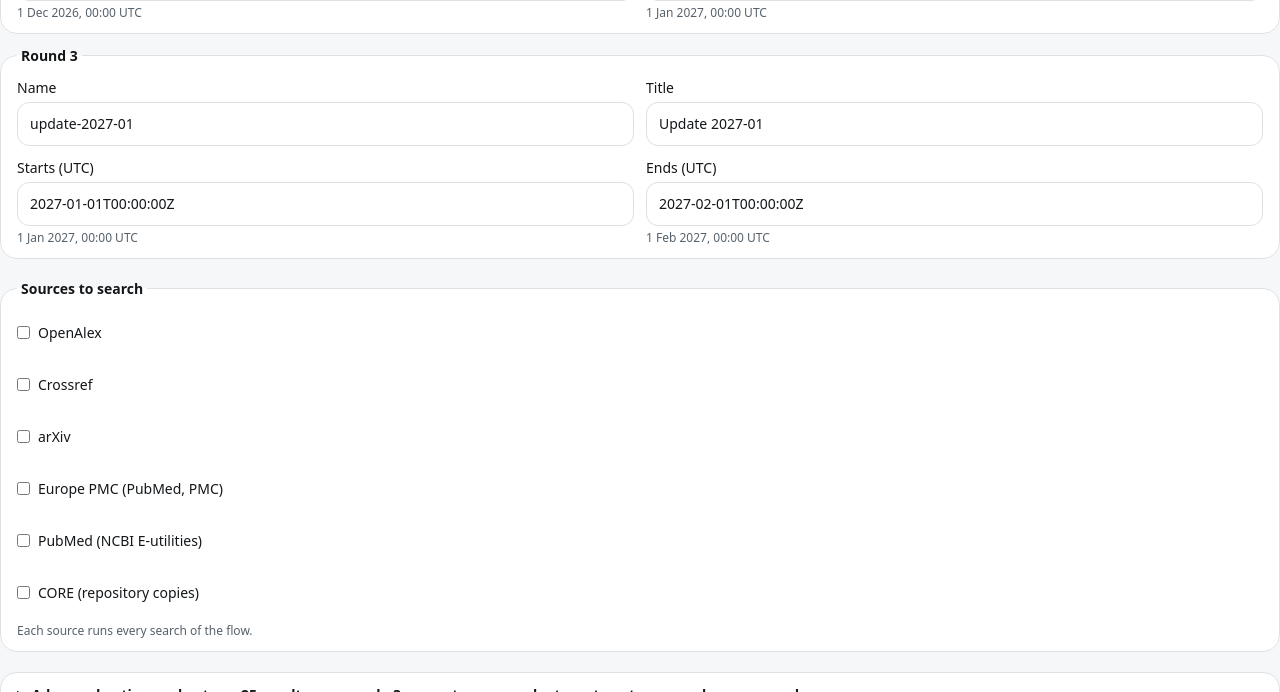
Test: New series › if the searches cannot be read, it says why and keeps saving disabled
This screenshot has width=1280, height=692.
(page scrolled)
Step 1. Click the checkbox labelled "OpenAlex" → click(24, 332), box [17,326,30,339]
(page scrolled)
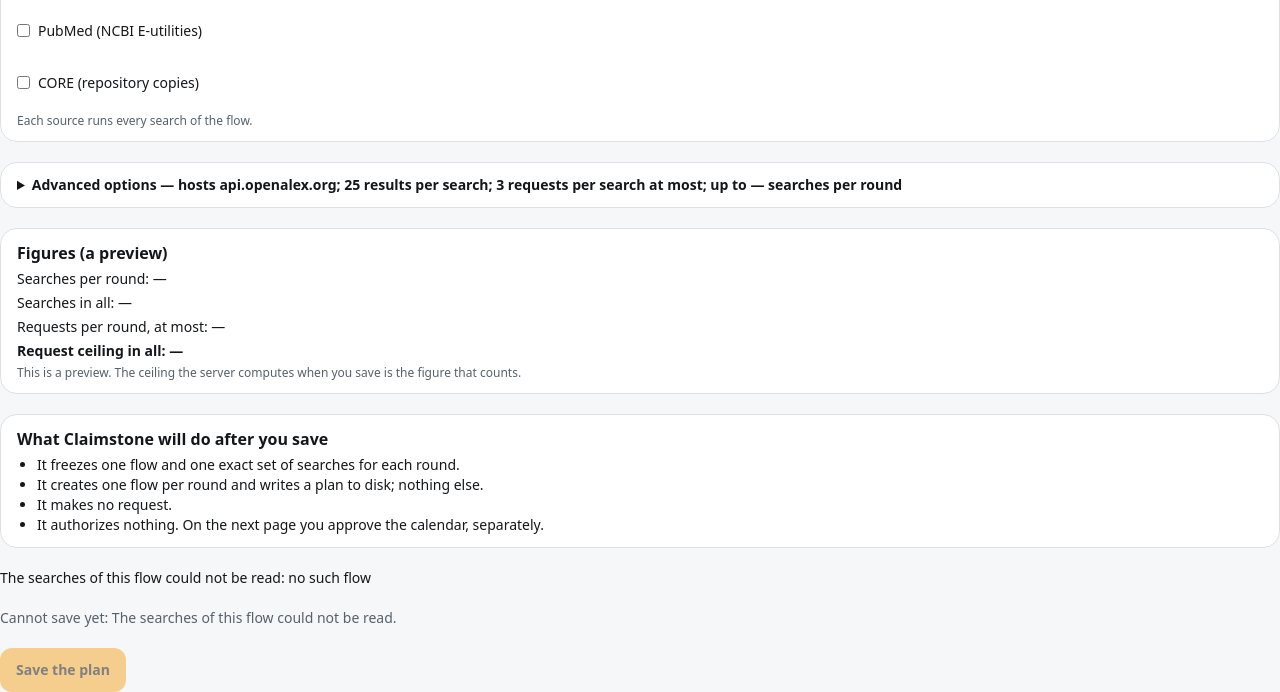
Expected: the button "Save the plan" is disabled, [0,648,126,691]
Result: the text "The searches of this flow could not be read: no such flow" is shown at [0,568,371,586]
